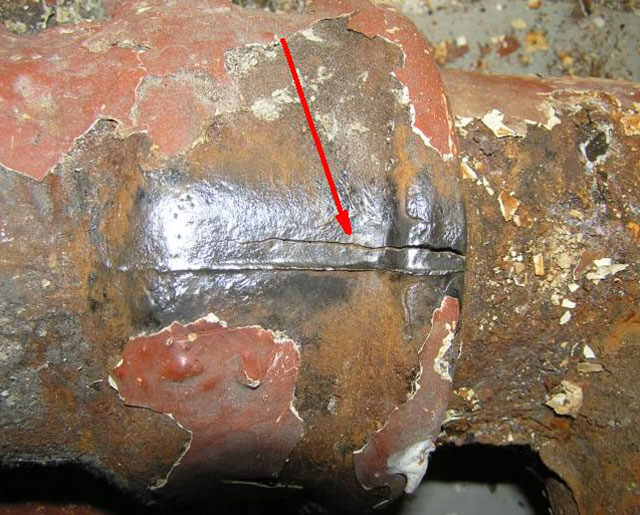crack: (297, 236, 393, 259), (391, 234, 469, 259), (225, 229, 298, 255)
